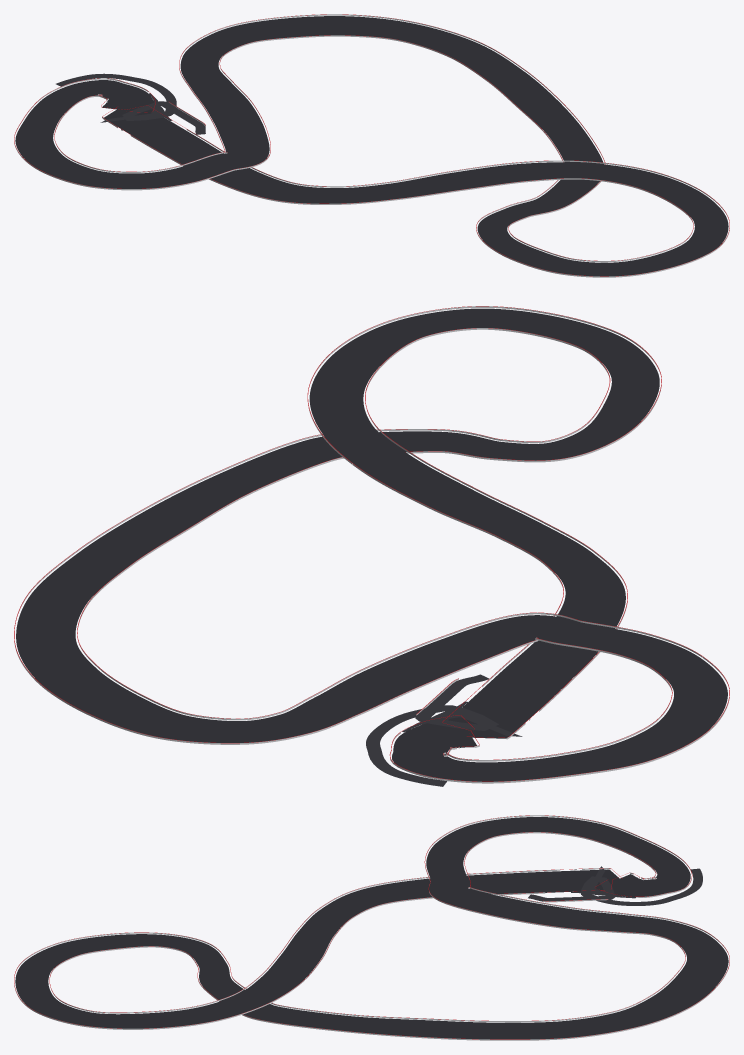
File: monaco.glb
3 views of the same model, one above another, from view 1: azimuth 30°, elevation 25°; view 2: azimuth 150°, elevation 25°; view 3: azimuth 270°, elevation 25° (orthographic). The views are drawn at different scales.
Parts seen in each view (by area): view 1: asphalt, tecpro_right, tecpro_left, pitAsphalt, tecproCap_right, tecproCap_left; view 2: asphalt, tecpro_right, tecpro_left, pitAsphalt, tecproCap_right, tecproCap_left; view 3: asphalt, tecpro_right, tecpro_left, pitAsphalt, tecproCap_right, tecproCap_left.
Part boxes in pixels (x1=…): asphalt: x1=15, y1=16, x2=728, y2=276; tecpro_right: x1=14, y1=35, x2=729, y2=277; tecpro_left: x1=54, y1=14, x2=693, y2=262; pitAsphalt: x1=56, y1=73, x2=205, y2=134; tecproCap_right: x1=14, y1=35, x2=729, y2=276; tecproCap_left: x1=54, y1=14, x2=693, y2=260; asphalt: x1=16, y1=308, x2=727, y2=781; tecpro_right: x1=78, y1=306, x2=729, y2=783; tecpro_left: x1=14, y1=328, x2=671, y2=761; pitAsphalt: x1=366, y1=674, x2=498, y2=786; tecproCap_right: x1=77, y1=306, x2=729, y2=781; tecproCap_left: x1=14, y1=328, x2=672, y2=759; asphalt: x1=15, y1=817, x2=728, y2=1039; tecpro_right: x1=14, y1=815, x2=691, y2=1029; tecpro_left: x1=50, y1=832, x2=729, y2=1040; pitAsphalt: x1=528, y1=868, x2=702, y2=905; tecproCap_right: x1=14, y1=815, x2=692, y2=1028; tecproCap_left: x1=49, y1=832, x2=729, y2=1039.
Size of the model in its own units: 511 by 13.31 by 695.
